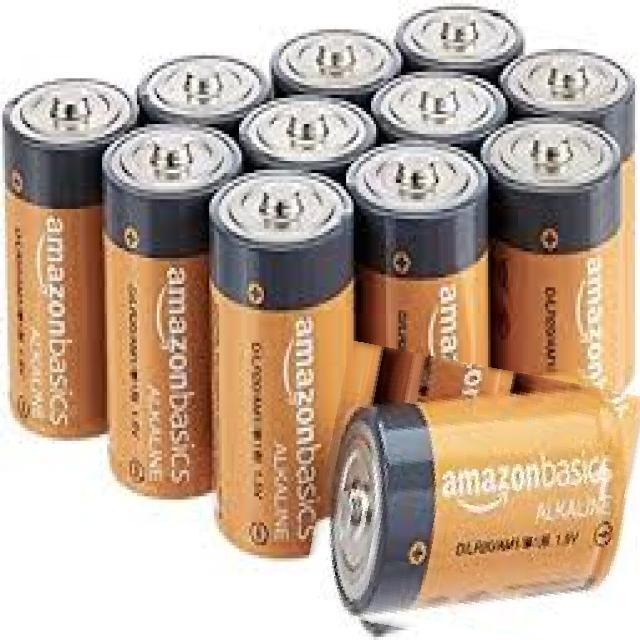Battery: (332, 387, 627, 619), (206, 174, 357, 561), (100, 117, 242, 500), (0, 71, 138, 443), (498, 49, 634, 388), (487, 121, 630, 400), (348, 146, 493, 370), (239, 96, 377, 174), (242, 99, 378, 174), (270, 21, 402, 95), (377, 74, 508, 148), (139, 58, 270, 128), (400, 5, 525, 67), (395, 9, 524, 67), (500, 49, 620, 110)
